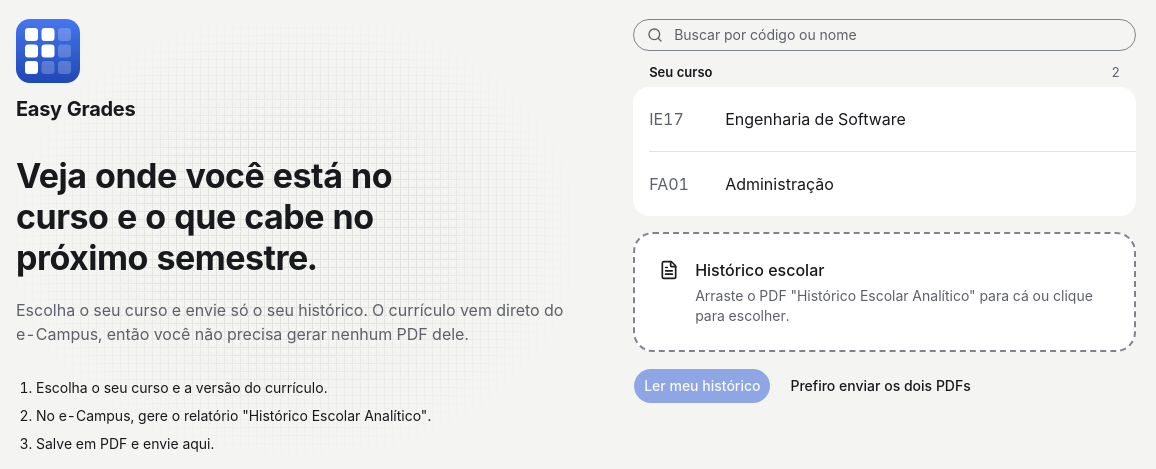
Test case: UploadScreen with the published curriculum › lists the courses the e-Campus publishes
Expected: the button "IE17 Engenharia de Software" is shown, [649,96,1120,140]
Expected: the button "FA01 Administração" is shown, [649,162,1120,206]
Type "administ" into the search field named "Buscar curso" at {"x": 885, "y": 34}, box [633,18,1136,50]
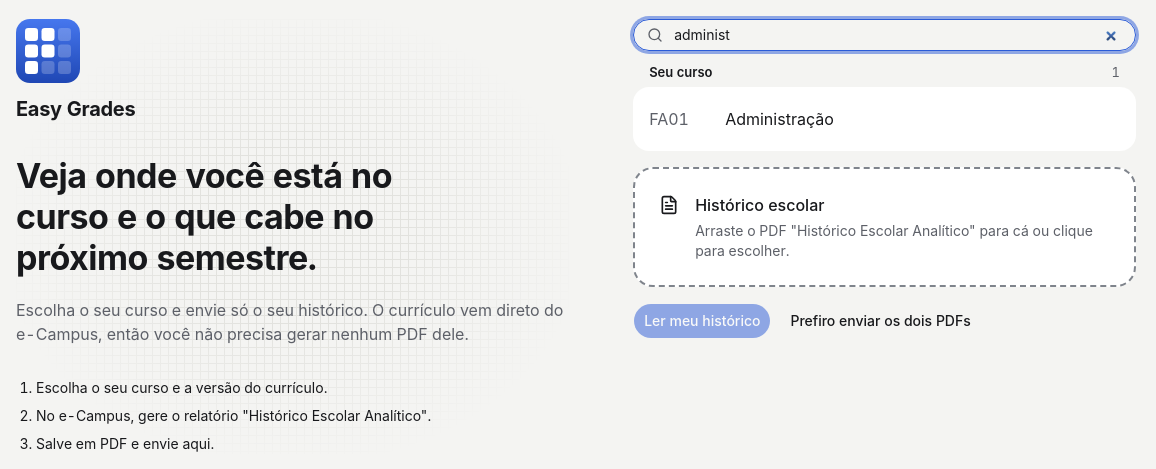
Expected: the button "Engenharia de Software" is gone
